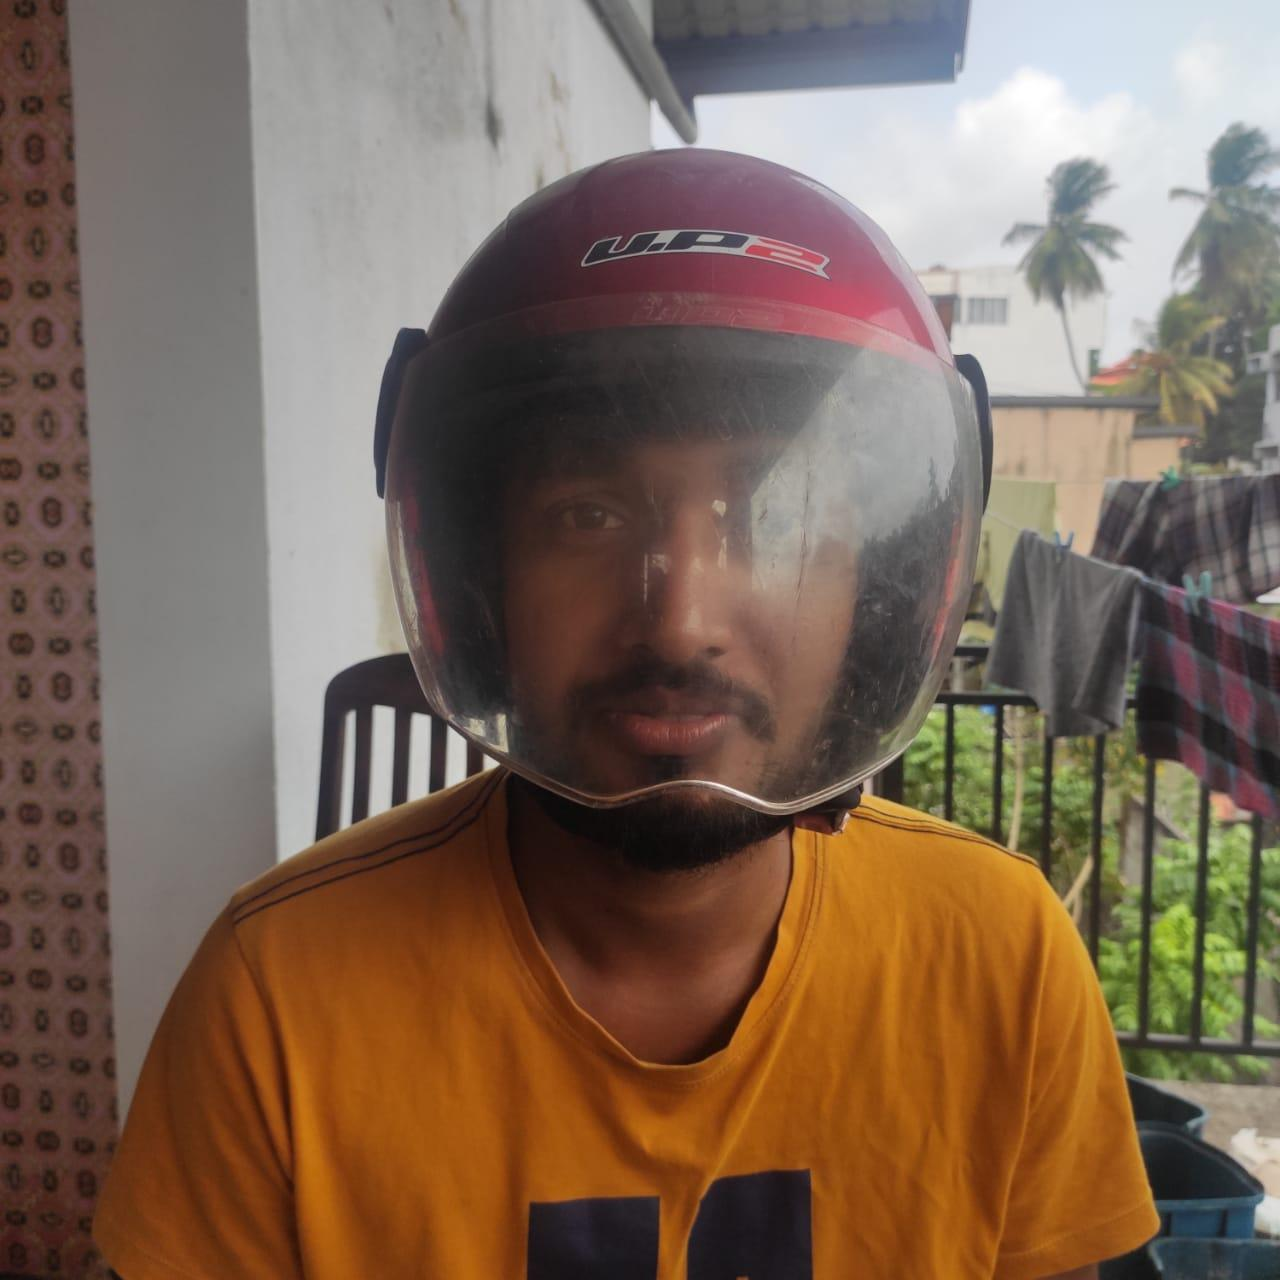helmet: (365, 144, 996, 808)
